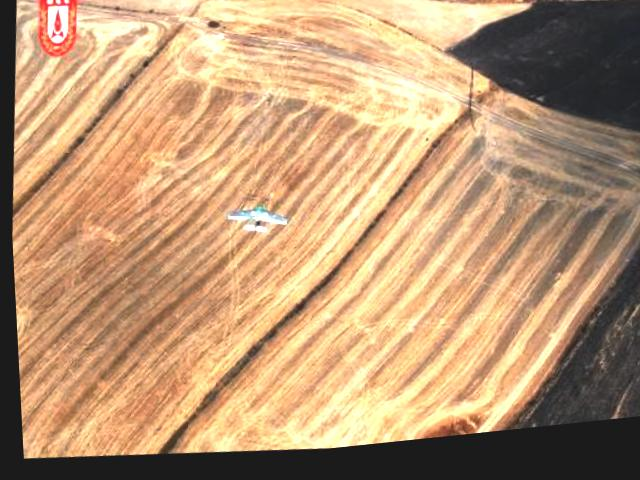uav: (222, 204, 288, 244)
